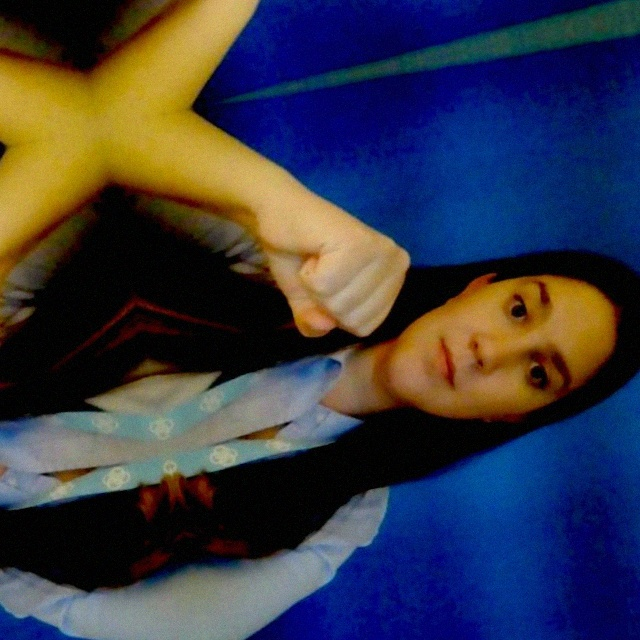Rock: (255, 184, 435, 362)
